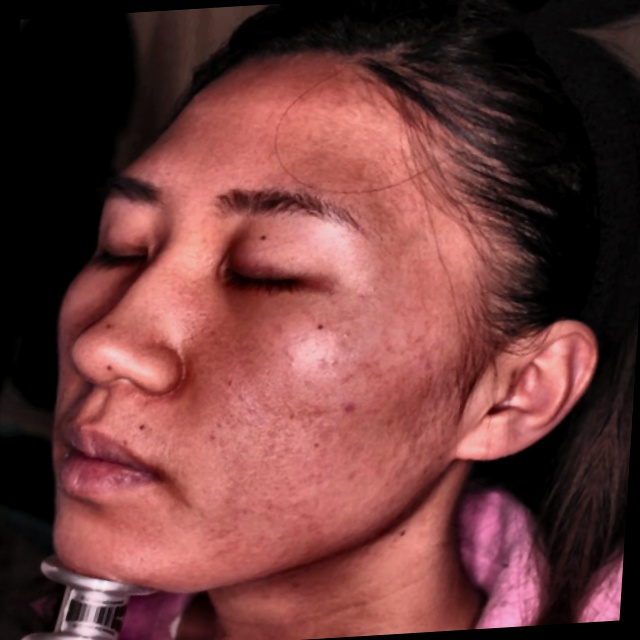comedone: (330, 391, 368, 429)
